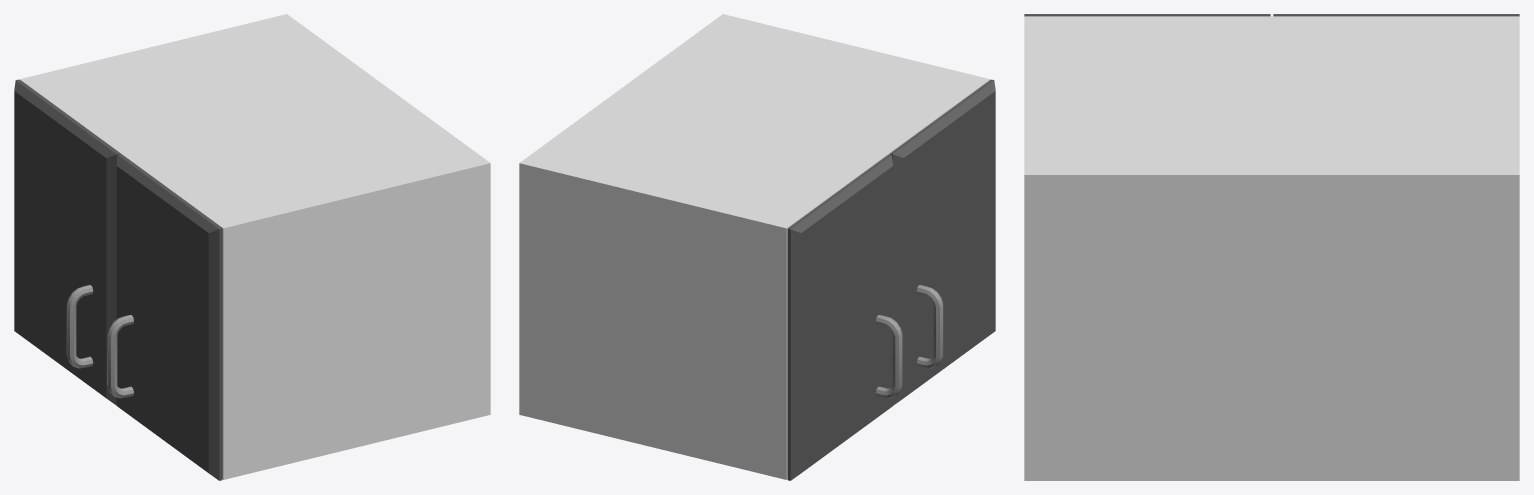
File: Mutfak_Dolap_Ust_2.fbx
3 renders of one model, left to right at view 1: azimuth 30°, elevation 25°; view 2: azimuth 150°, elevation 25°; view 3: azimuth 270°, elevation 25°, orthographic. The views are drawn at different scales.
Parts seen in each view (by area): view 1: Cube.001; view 2: Cube.001; view 3: Cube.001.
Boxes of the visible parts, bbox=[...] form: Cube.001: bbox=[14, 14, 490, 480]; Cube.001: bbox=[519, 14, 995, 480]; Cube.001: bbox=[1024, 14, 1519, 480].
Bounding box in the file's own units: 87.15 × 69.52 × 102.
